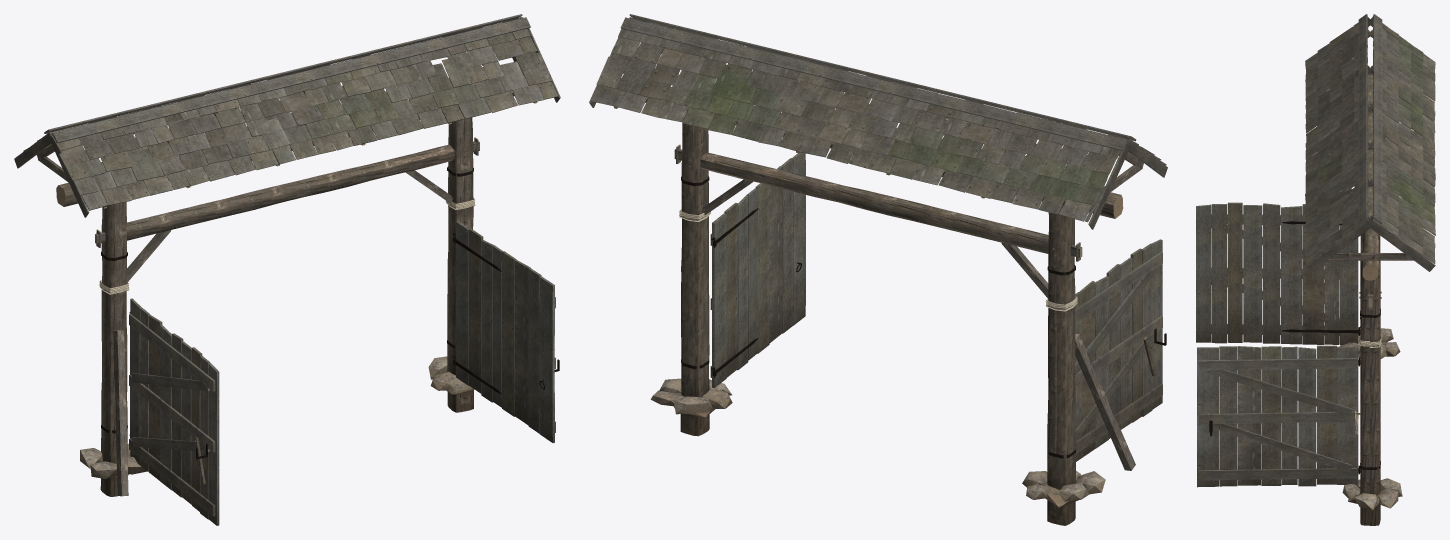
The model's file is gate-v5-lite.glb.
3 views of the same model, side by side, from view 1: azimuth 30°, elevation 25°; view 2: azimuth 150°, elevation 25°; view 3: azimuth 270°, elevation 25° (orthographic). The views are drawn at different scales.
Visible parts, largest first — view 1: H_gate; view 2: H_gate; view 3: H_gate.
Boxes of the visible parts, x1,y1,x2,y2 form: H_gate: (14,14,560,525); H_gate: (589,14,1167,525); H_gate: (1196,14,1435,525).
Bounding box in the file's own units: 9.35 × 7.06 × 4.63.
7 materials, 6 textured.
